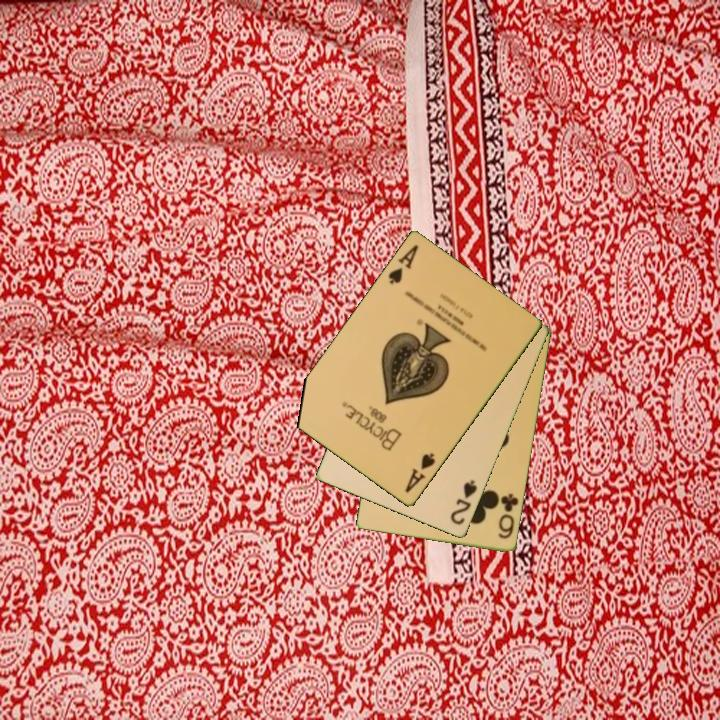2s: (447, 476, 480, 528)
6c: (495, 490, 522, 542)
As: (401, 449, 438, 496), (384, 241, 421, 287)
